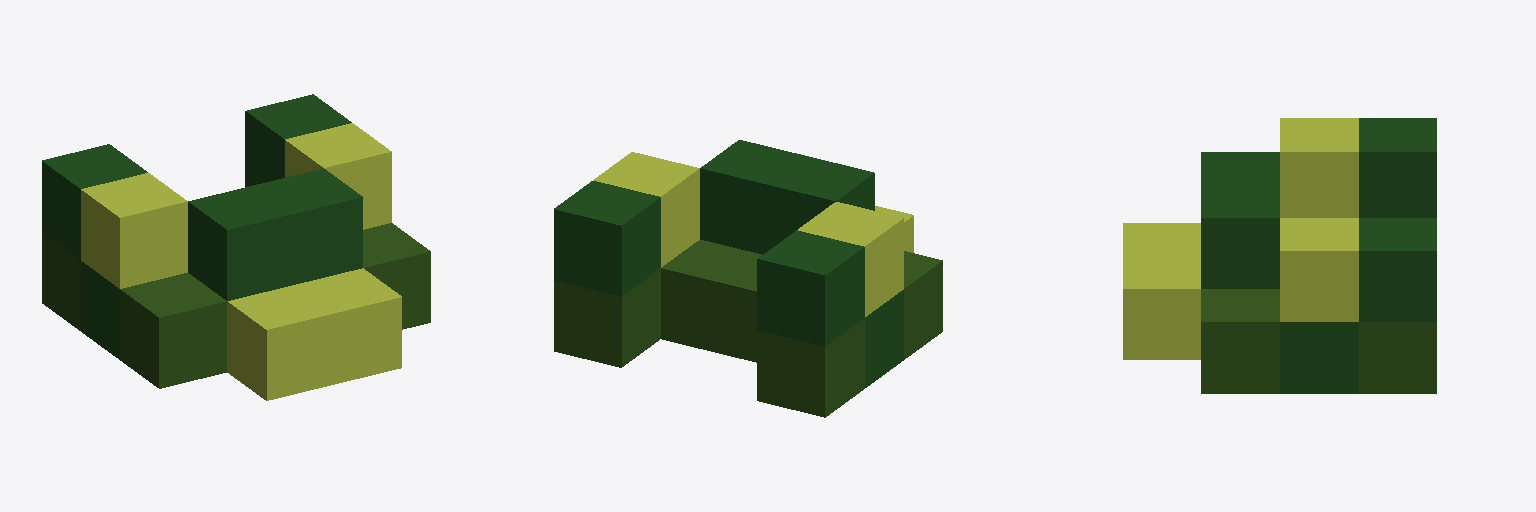
The picture shows the model from 3 angles: view 1: azimuth 30°, elevation 25°; view 2: azimuth 150°, elevation 25°; view 3: azimuth 270°, elevation 25°; orthographic projection.
Visible parts, largest first — view 1: Model; view 2: Model; view 3: Model.
Part boxes in pixels (bbox=[...]): Model: bbox=[42, 94, 430, 400]; Model: bbox=[554, 140, 942, 417]; Model: bbox=[1123, 118, 1436, 393].
Bounding box in the file's own units: 16 × 8 × 16.
Materials: 1 (1 with a texture image).